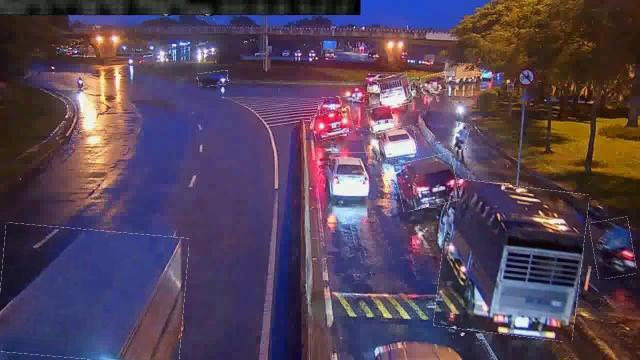Bike: (591, 218, 635, 278), (454, 122, 468, 150)
Car: (396, 155, 458, 209), (328, 153, 372, 199), (377, 128, 417, 160), (311, 109, 353, 138), (319, 96, 353, 118), (368, 106, 394, 132), (421, 73, 447, 93), (198, 72, 228, 86)
Truck: (1, 226, 188, 360), (437, 182, 585, 338), (378, 75, 412, 109)
